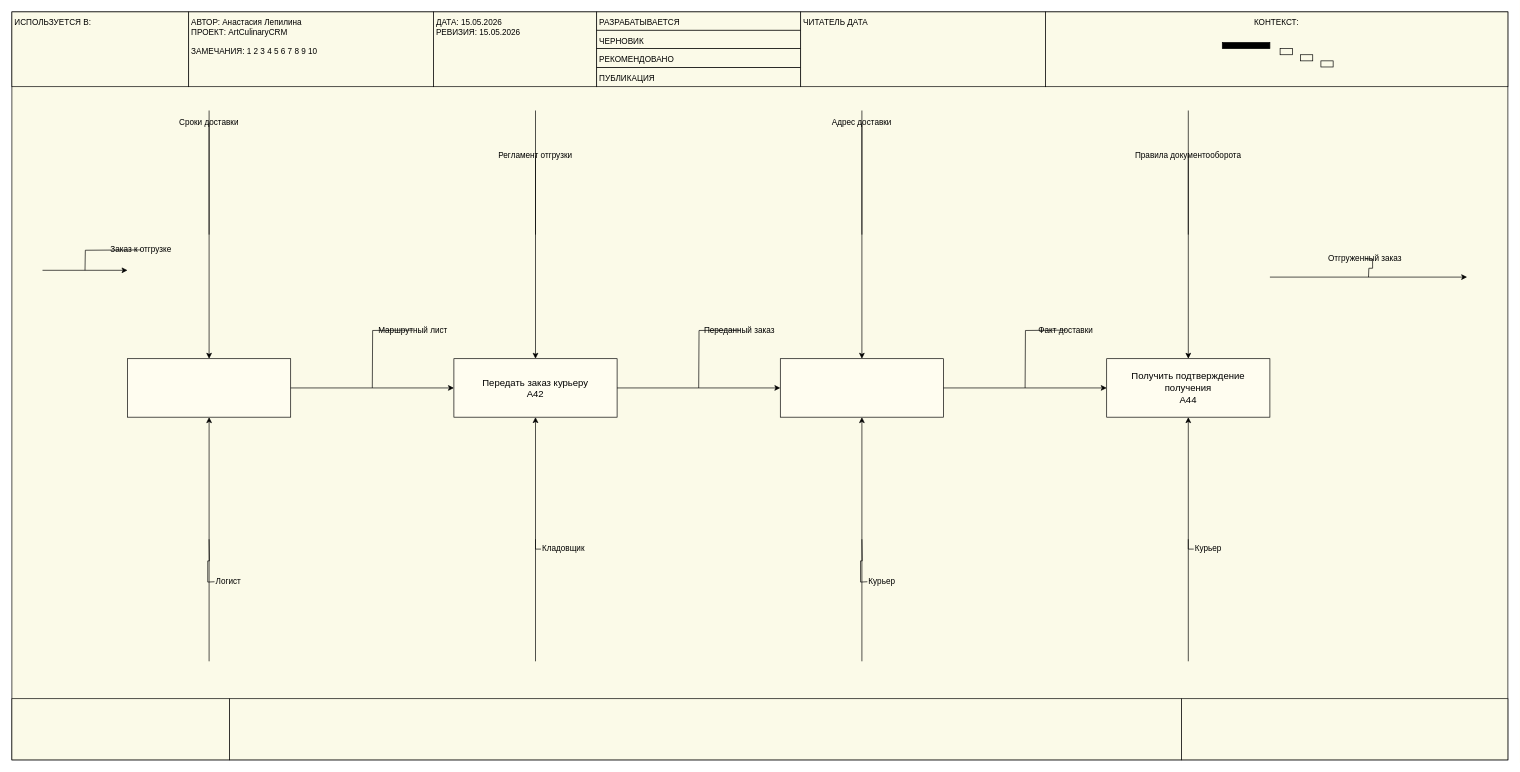
The diagram is 1520 pixels wide and 772 high, and some of its shapes have lost their labels. Each missing label, with the box of its shape:
Ветка: A4: (11, 698, 230, 760)
Доставить заказ клиенту A43: (780, 358, 944, 417)
Название: Передать заказ клиенту: (229, 698, 1182, 760)
Номер: 6: (1181, 698, 1508, 760)
Составить бумажный маршрутный лист A41: (127, 358, 291, 417)
